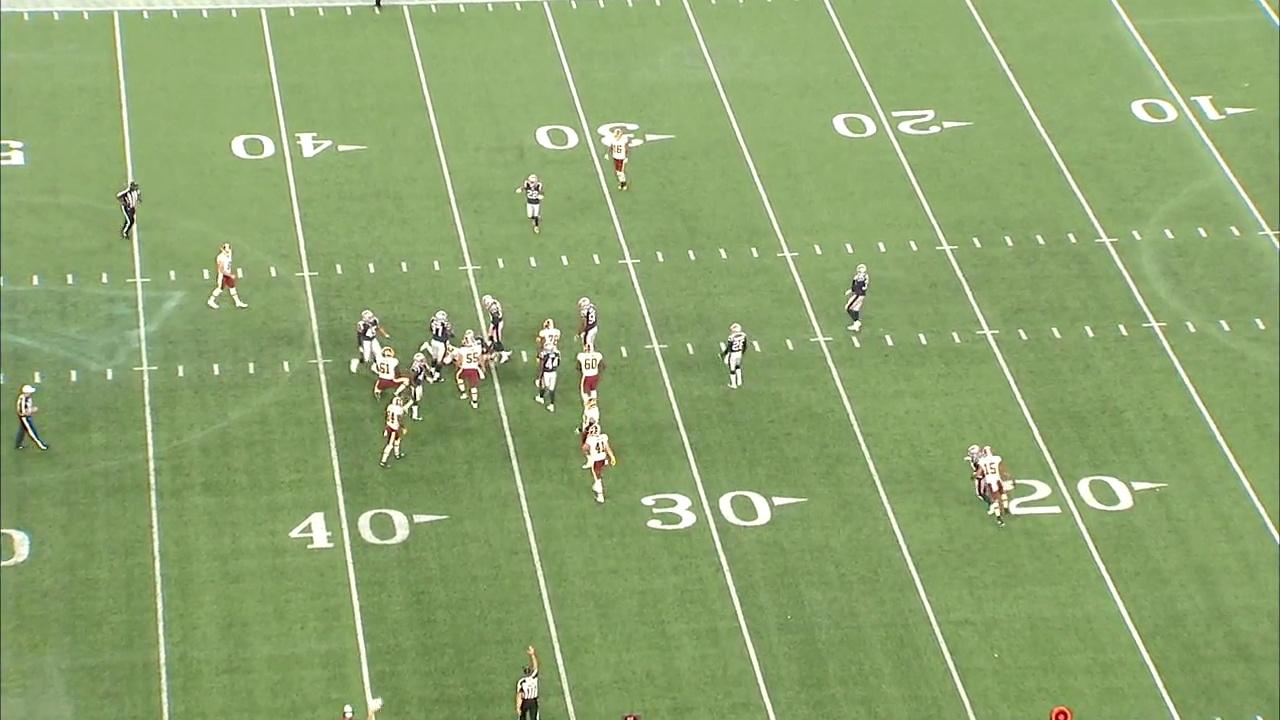five_hash: (1141, 321, 1168, 328), (808, 336, 835, 343), (125, 277, 152, 283), (1094, 237, 1119, 243), (934, 244, 959, 250), (775, 251, 800, 257), (458, 265, 482, 271), (132, 366, 159, 371), (975, 330, 1001, 335), (294, 271, 320, 276), (307, 359, 333, 364), (644, 344, 669, 349), (617, 259, 642, 264)
hash: (1227, 223, 1245, 240), (915, 331, 930, 349), (1032, 232, 1048, 248), (1114, 322, 1130, 338), (1063, 230, 1080, 245), (969, 235, 986, 250), (364, 260, 379, 277), (1128, 228, 1144, 243), (810, 242, 825, 258), (747, 244, 762, 260), (165, 268, 180, 284), (881, 332, 896, 348), (949, 330, 965, 345), (97, 269, 111, 286), (279, 359, 293, 376), (1081, 325, 1098, 339), (1000, 233, 1015, 248), (905, 237, 920, 252), (875, 240, 890, 255), (842, 240, 857, 255), (652, 249, 667, 264), (266, 264, 281, 279), (517, 349, 532, 364), (848, 334, 863, 349), (1049, 326, 1064, 341), (1218, 318, 1233, 333), (1194, 225, 1210, 239), (331, 261, 345, 277), (749, 338, 763, 354), (715, 246, 730, 260), (525, 254, 539, 269), (494, 256, 508, 271), (28, 272, 42, 287), (66, 368, 80, 383), (244, 361, 258, 376), (1184, 319, 1198, 334), (1253, 317, 1267, 332), (200, 267, 213, 283), (558, 254, 572, 268), (233, 265, 247, 279), (31, 371, 45, 385), (617, 345, 631, 359), (1162, 227, 1177, 240), (686, 247, 699, 262), (590, 251, 603, 266), (174, 363, 187, 378), (103, 366, 115, 382), (430, 259, 443, 273), (64, 272, 77, 286), (783, 337, 796, 351), (1017, 328, 1031, 341), (210, 362, 222, 377), (684, 342, 696, 356), (399, 260, 410, 274)
number: (636, 488, 780, 537), (283, 503, 414, 554), (999, 471, 1137, 519), (829, 105, 947, 144), (1125, 89, 1231, 131), (224, 129, 337, 163)
